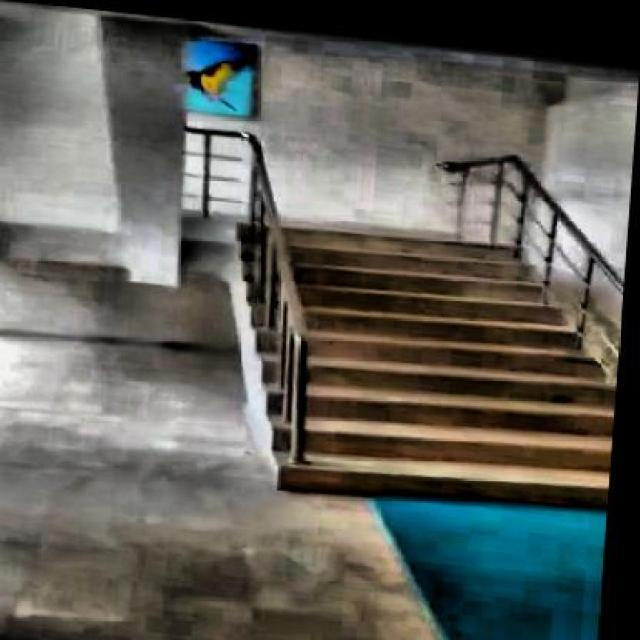stair: (214, 212, 628, 511)
